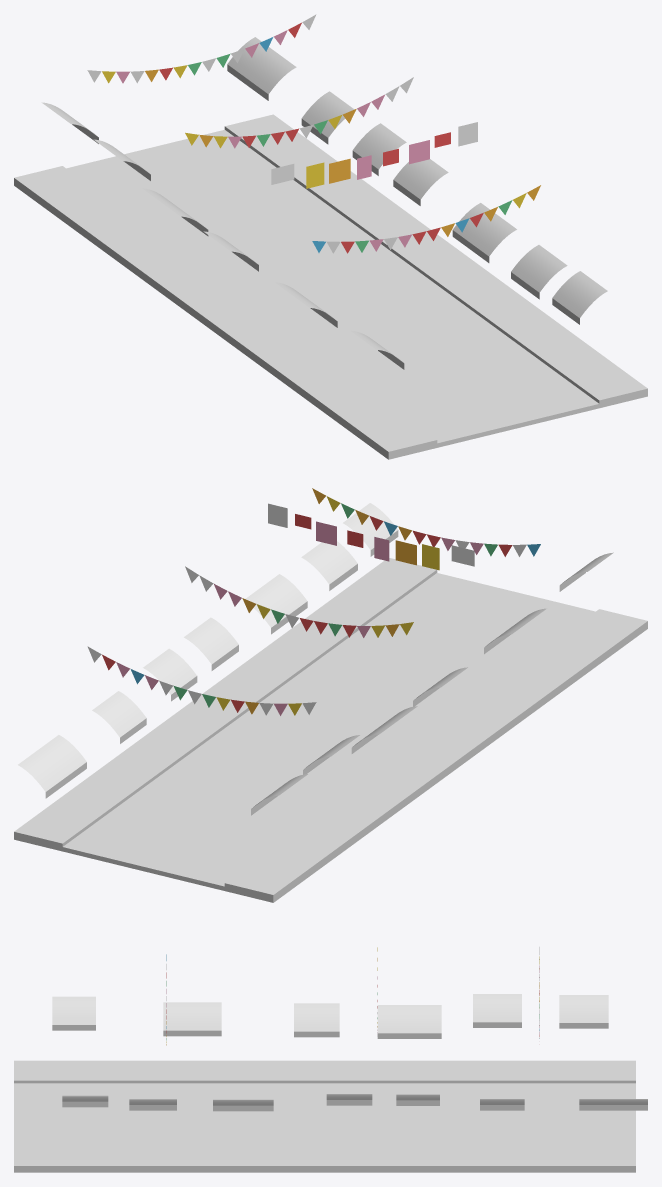
The model's file is Harita_02_Mahalle_Kapali_Carsi_Ozel.fbx.
The picture shows the model from 3 angles, top to bottom: view 1: azimuth 30°, elevation 25°; view 2: azimuth 150°, elevation 25°; view 3: azimuth 270°, elevation 25°; orthographic projection. The views are drawn at different scales.
Visible parts, largest first — view 1: Harita_02_Yol.001, Harita_02_Kaldirim_L.001, Harita_02_Kaldirim_R.001, Camasirlar.010, Tente.161, Tente.157, Tente.156, Bayraklar.040, Bayraklar.038, Bayraklar.039, Tente.155, Tente.158 (+2 smaller); view 2: Harita_02_Yol.001, Harita_02_Kaldirim_L.001, Harita_02_Kaldirim_R.001, Camasirlar.010, Tente.161, Tente.157, Bayraklar.040, Bayraklar.039, Bayraklar.038, Tente.156, Tente.158, Tente.160 (+2 smaller); view 3: Harita_02_Yol.001, Harita_02_Kaldirim_R.001, Harita_02_Kaldirim_L.001, Tente.152, Tente.150, Tente.154, Tente.153, Tente.151, Tente.149, Tente.161, Tente.157, Tente.155 (+4 smaller).
Part boxes in pixels (x1,y1,x2,y2): Harita_02_Yol.001: (66, 129, 599, 447); Harita_02_Kaldirim_L.001: (14, 166, 437, 459); Harita_02_Kaldirim_R.001: (224, 114, 647, 408); Camasirlar.010: (271, 122, 477, 188); Tente.161: (227, 37, 296, 100); Tente.157: (452, 203, 516, 262); Tente.156: (511, 245, 567, 299); Bayraklar.040: (87, 14, 316, 83); Bayraklar.038: (312, 185, 540, 253); Bayraklar.039: (185, 77, 413, 148); Tente.155: (552, 271, 607, 324); Tente.158: (393, 159, 448, 205); Harita_02_Yol.001: (62, 573, 595, 890); Harita_02_Kaldirim_L.001: (224, 609, 647, 902); Harita_02_Kaldirim_R.001: (14, 558, 437, 851); Camasirlar.010: (268, 503, 474, 570); Tente.161: (18, 735, 86, 798); Tente.157: (243, 574, 307, 634); Bayraklar.040: (87, 646, 316, 715); Bayraklar.039: (185, 566, 413, 637); Bayraklar.038: (312, 488, 540, 556); Tente.156: (301, 541, 357, 590); Tente.158: (184, 617, 238, 670); Tente.160: (92, 691, 146, 743); Harita_02_Yol.001: (14, 1083, 635, 1146); Harita_02_Kaldirim_R.001: (14, 1146, 635, 1172); Harita_02_Kaldirim_L.001: (14, 1060, 635, 1083); Tente.152: (377, 1005, 441, 1038); Tente.150: (163, 1002, 221, 1036); Tente.154: (559, 995, 608, 1028); Tente.153: (473, 994, 521, 1027); Tente.151: (294, 1003, 339, 1037); Tente.149: (52, 996, 95, 1030); Tente.161: (579, 1099, 647, 1110); Tente.157: (213, 1099, 273, 1111); Tente.155: (62, 1095, 108, 1107).
Size of the model in its own units: 12 by 7.84 by 30.58.
